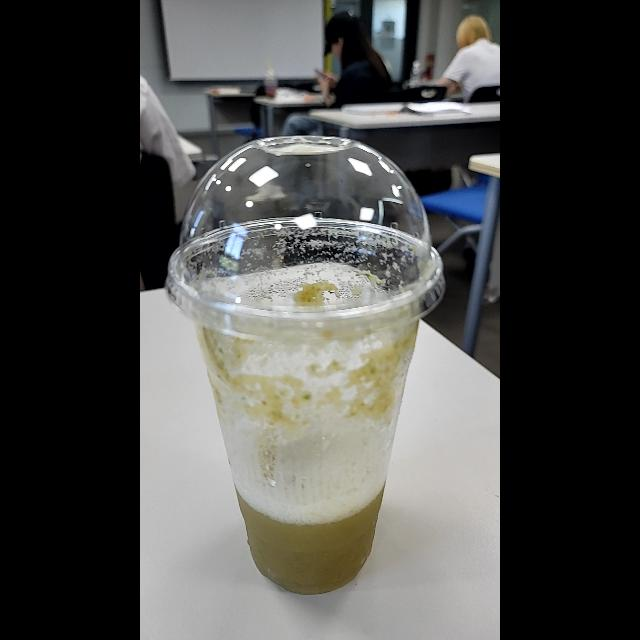plastic_cup: (159, 127, 449, 609)
plastic_cup_lid: (165, 131, 448, 345)
